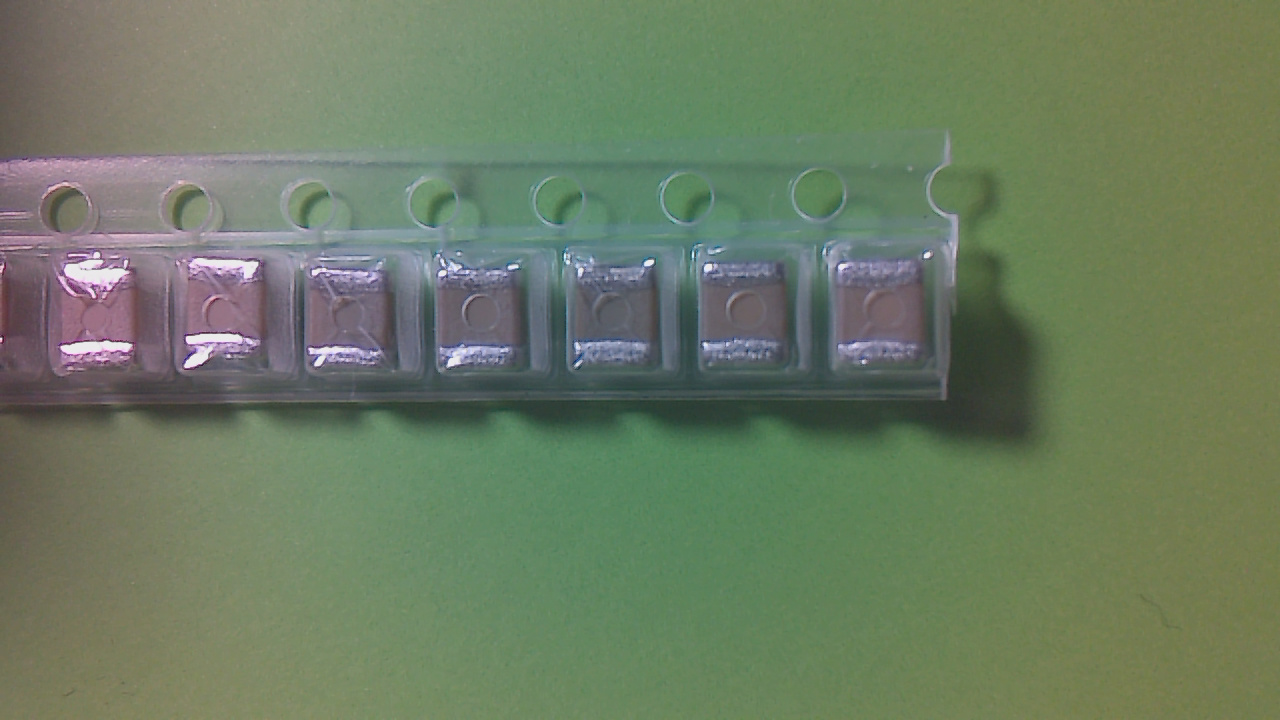Condensator: (841, 263, 932, 368), (571, 274, 660, 376), (707, 270, 795, 373), (444, 270, 528, 373), (313, 270, 395, 375), (184, 267, 267, 370), (60, 272, 142, 373)
